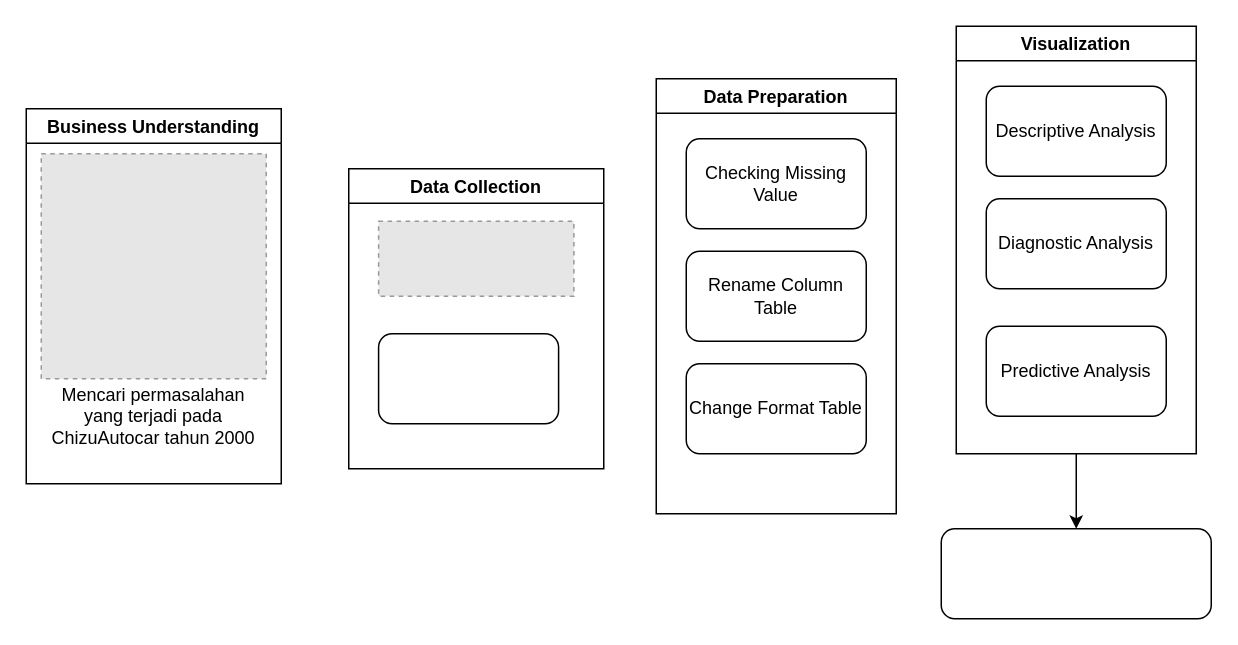
The diagram is 1238 pixels wide and 645 high, and some of its shapes have lost their labels. Grey dashed boxes stand in for pictures. Each missing label, with the centre of its shape:
PT ChizuAutocar tahun 2000: (x=468, y=378)
Simple Linear Regression(Forecasting): (x=1075, y=573)
